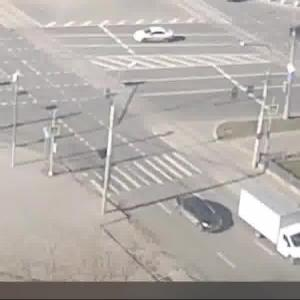car: (172, 189, 220, 235), (134, 25, 177, 47)
